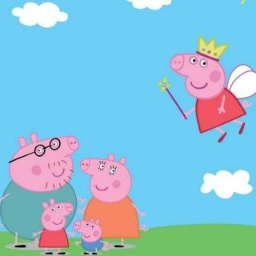Peppa: (158, 37, 256, 146), (33, 198, 76, 255)
